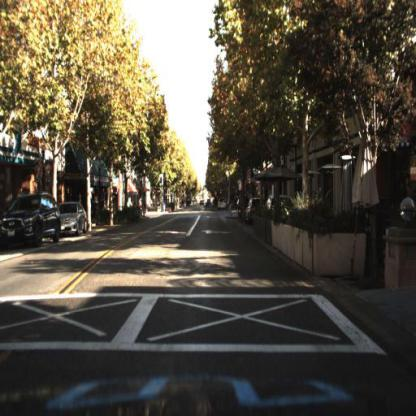car: (3, 192, 63, 249), (55, 200, 91, 245), (264, 190, 298, 228), (243, 197, 265, 226)
trafficLight-Red: (223, 158, 232, 181)
